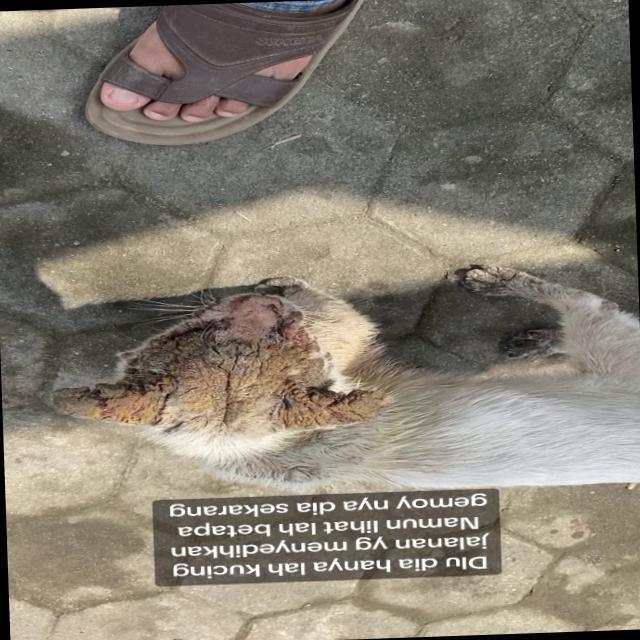ghe: (69, 363, 214, 426), (248, 370, 382, 438), (192, 334, 298, 408), (179, 364, 278, 442)
